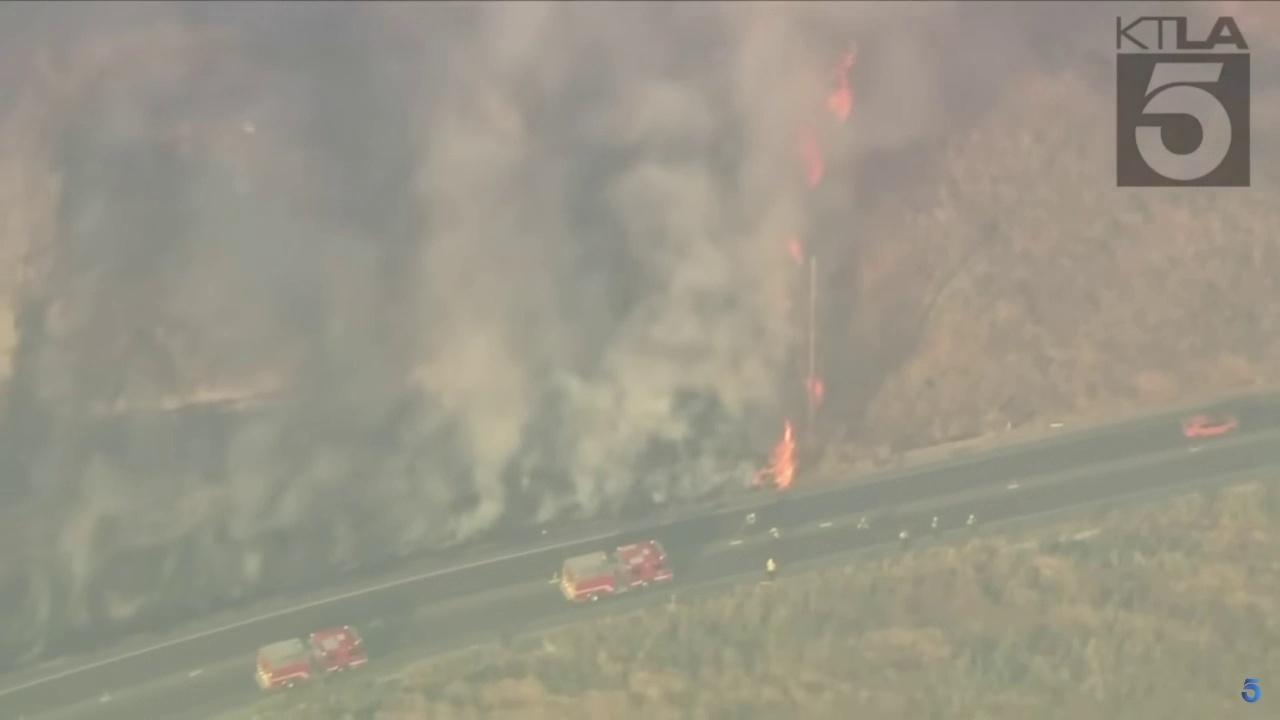fire: (749, 414, 798, 492), (826, 51, 861, 122), (796, 125, 825, 188), (786, 235, 805, 267), (814, 379, 826, 405)
smoke: (0, 0, 974, 655)
